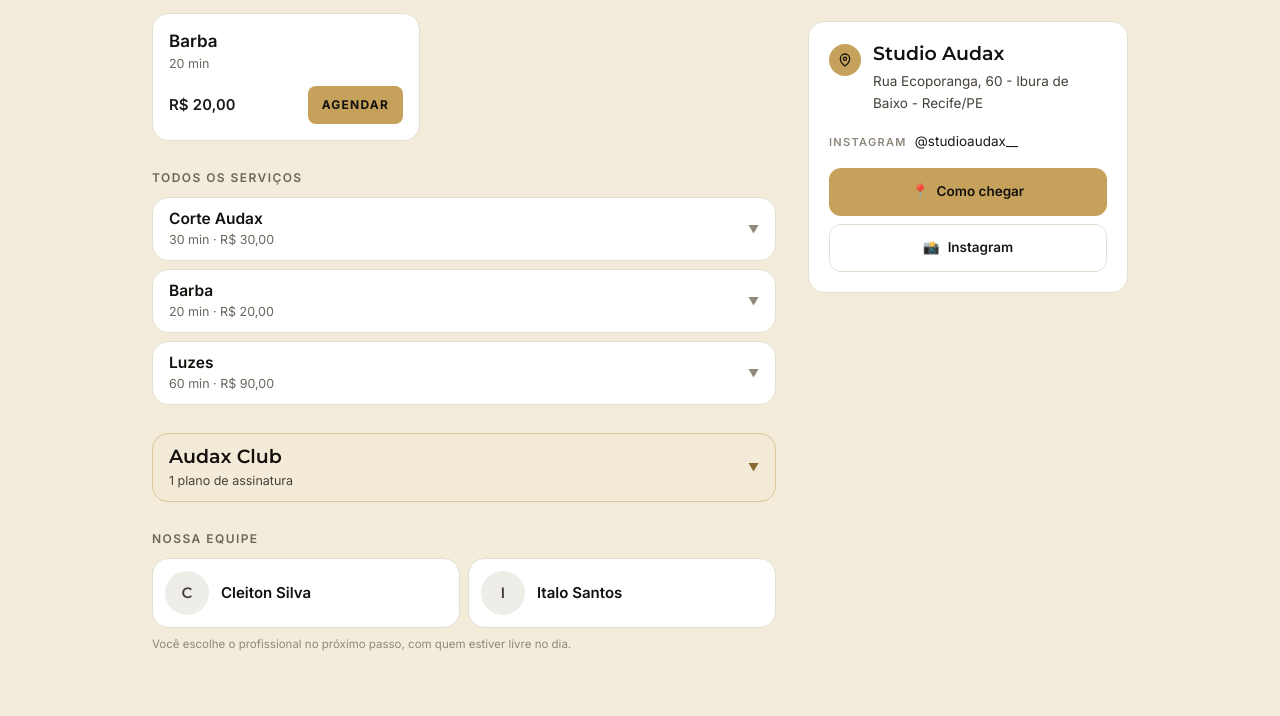
Audax Club na vitrine › sem telefone oficial o botão some — nada de número inventado
(page scrolled)
Click the button "Audax Club 1 plano de assinatura ▼": x=225, y=456 [153,434,775,501]
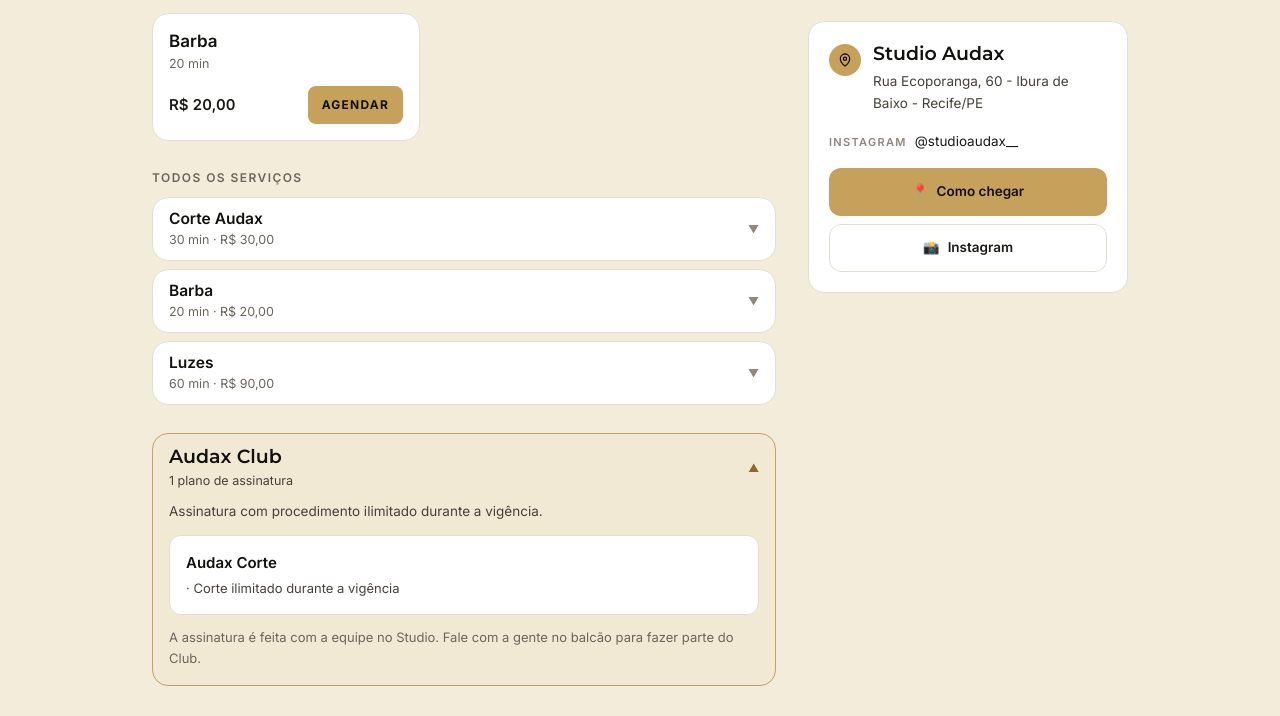
expect the list item "· Corte ilimitado durante a vigência" is shown: met, box [186,580,400,596]
